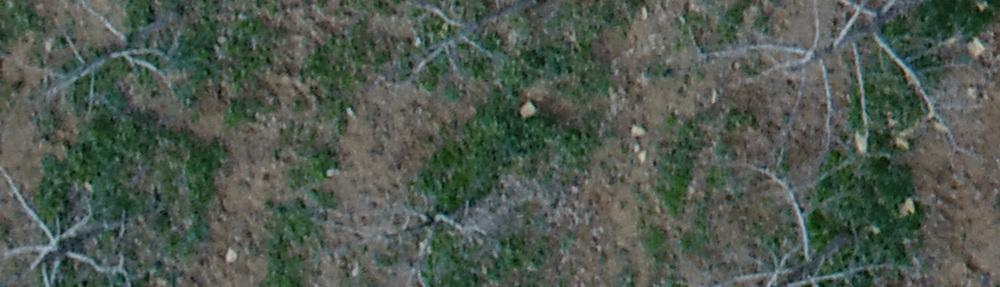apple: (692, 10, 981, 161), (20, 10, 186, 120), (324, 187, 509, 277), (10, 161, 136, 277), (406, 10, 568, 91)
